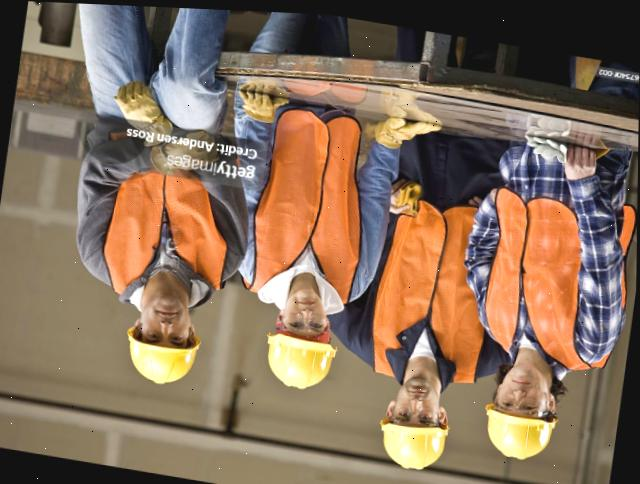helmet: (120, 320, 206, 388), (480, 399, 560, 464), (263, 326, 339, 391), (375, 415, 451, 475)
vest: (243, 88, 374, 309), (371, 187, 508, 384), (481, 183, 621, 367), (103, 140, 231, 295)
